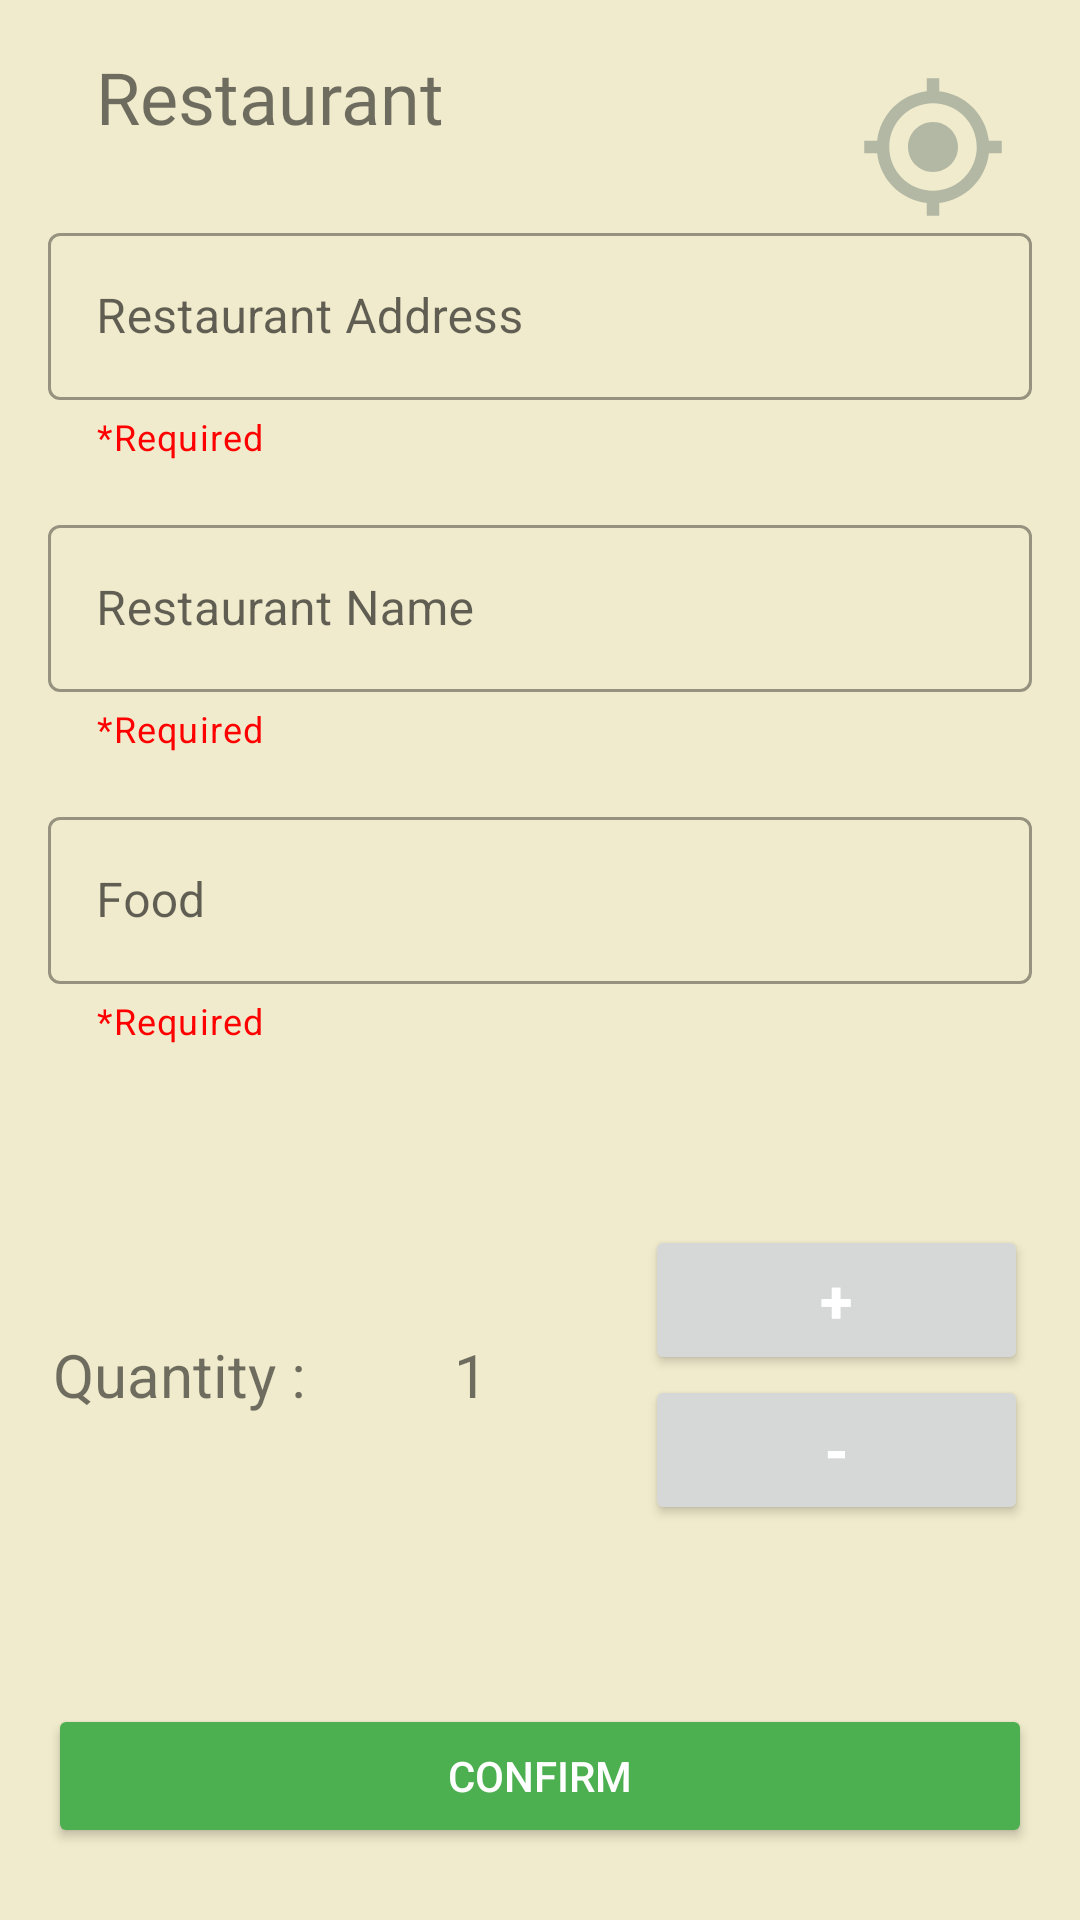

Named icons in this screenshot (1080 × 1920) and their bounding boxes, (x1, y1, x2, y2):
gps fixed: (864, 78, 1002, 216)
